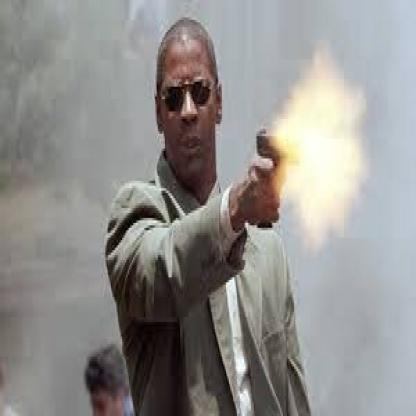Pistol: (245, 119, 300, 236)
